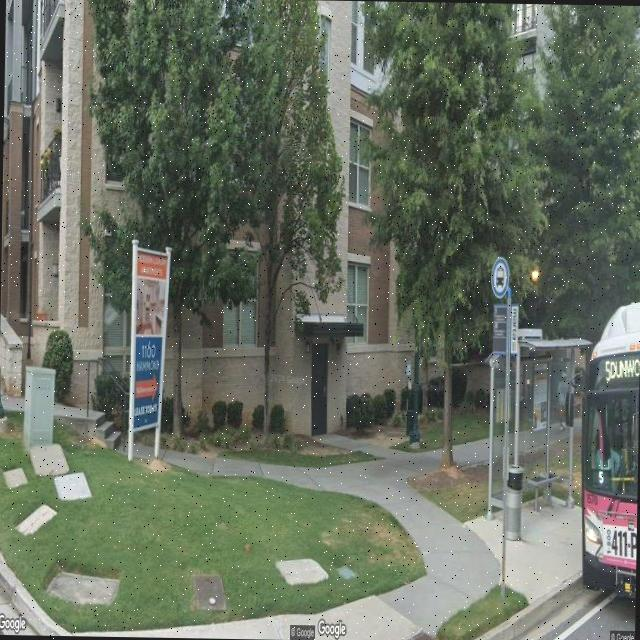seating: (526, 470, 560, 512)
shelter: (486, 338, 590, 521)
trash_can: (504, 464, 524, 540)
